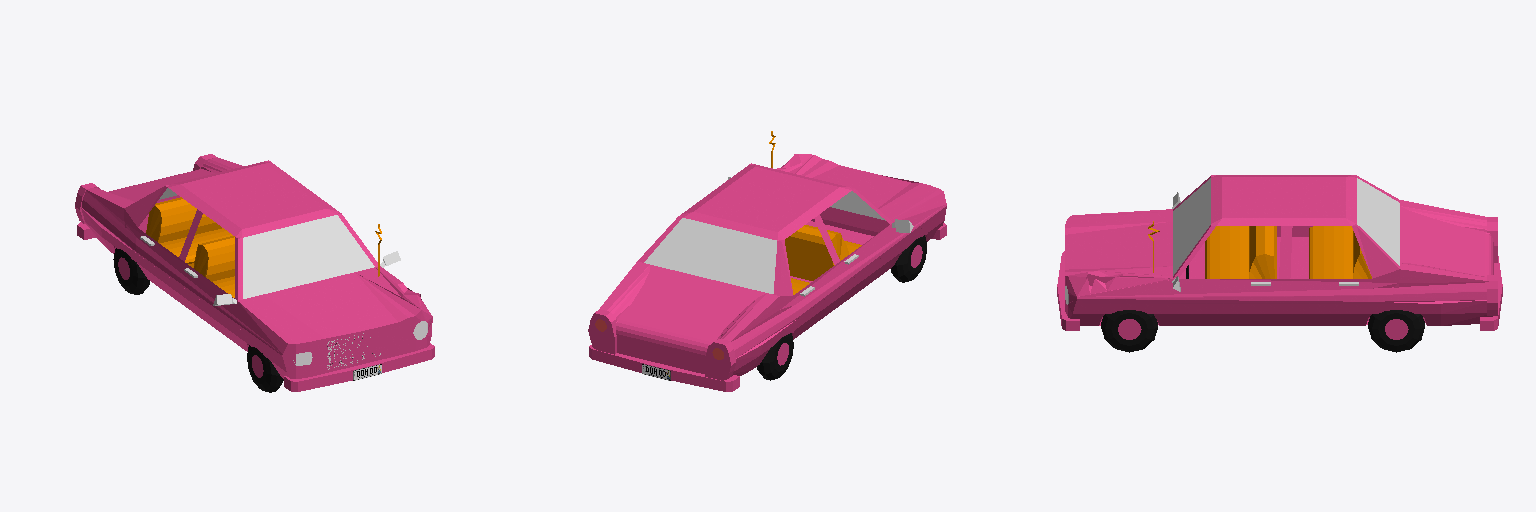
The picture shows the model from 3 angles: view 1: azimuth 30°, elevation 25°; view 2: azimuth 150°, elevation 25°; view 3: azimuth 270°, elevation 25°; orthographic projection.
Visible parts, largest first — view 1: Mesh20 Body1 Untitled__1_1 Model, Mesh10 Seat2 Body1 Untitled__1_1 Model, Mesh9 Seat1 Body1 Untitled__1_1 Model, Mesh5 Bumper1 Body1 Untitled__1_1 Model, Mesh2 Wheel_1_2 Body1 Untitled__1_1 Model, Mesh4 Wheel_1_4 Body1 Untitled__1_1 Model; view 2: Mesh20 Body1 Untitled__1_1 Model, Mesh9 Seat1 Body1 Untitled__1_1 Model, Mesh7 Bumper_1_1 Body1 Untitled__1_1 Model, Mesh19 Taillights2 Body1 Untitled__1_1 Model, Mesh18 Taillights1 Body1 Untitled__1_1 Model, Mesh4 Wheel_1_4 Body1 Untitled__1_1 Model, Mesh2 Wheel_1_2 Body1 Untitled__1_1 Model; view 3: Mesh20 Body1 Untitled__1_1 Model, Mesh9 Seat1 Body1 Untitled__1_1 Model, Mesh10 Seat2 Body1 Untitled__1_1 Model, Mesh3 Wheel_1_3 Body1 Untitled__1_1 Model, Mesh1 Wheel_1_1 Body1 Untitled__1_1 Model, Mesh5 Bumper1 Body1 Untitled__1_1 Model.
Part boxes in pixels (x1,y1,x2,y2): Mesh20 Body1 Untitled__1_1 Model: (81,157,432,378); Mesh10 Seat2 Body1 Untitled__1_1 Model: (146,197,232,267); Mesh9 Seat1 Body1 Untitled__1_1 Model: (194,236,234,297); Mesh5 Bumper1 Body1 Untitled__1_1 Model: (284,343,434,391); Mesh2 Wheel_1_2 Body1 Untitled__1_1 Model: (247,345,283,392); Mesh4 Wheel_1_4 Body1 Untitled__1_1 Model: (113,248,149,294); Mesh20 Body1 Untitled__1_1 Model: (600,154,946,375); Mesh9 Seat1 Body1 Untitled__1_1 Model: (785,225,861,280); Mesh7 Bumper_1_1 Body1 Untitled__1_1 Model: (589,345,739,391); Mesh19 Taillights2 Body1 Untitled__1_1 Model: (705,339,735,380); Mesh18 Taillights1 Body1 Untitled__1_1 Model: (588,309,616,354); Mesh4 Wheel_1_4 Body1 Untitled__1_1 Model: (757,333,793,380); Mesh2 Wheel_1_2 Body1 Untitled__1_1 Model: (891,235,926,282); Mesh20 Body1 Untitled__1_1 Model: (1065,175,1493,325); Mesh9 Seat1 Body1 Untitled__1_1 Model: (1205,226,1276,278); Mesh10 Seat2 Body1 Untitled__1_1 Model: (1309,226,1371,278); Mesh3 Wheel_1_3 Body1 Untitled__1_1 Model: (1368,310,1424,352); Mesh1 Wheel_1_1 Body1 Untitled__1_1 Model: (1101,310,1157,352); Mesh5 Bumper1 Body1 Untitled__1_1 Model: (1057,251,1079,330).
Bounding box in the file's own units: 1.87 × 1.22 × 3.89.
10 materials, 4 textured.